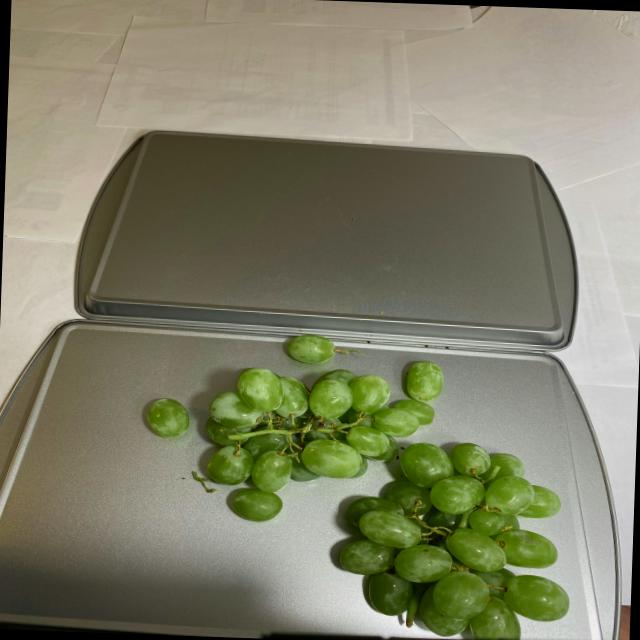grapes: (134, 327, 583, 640)
